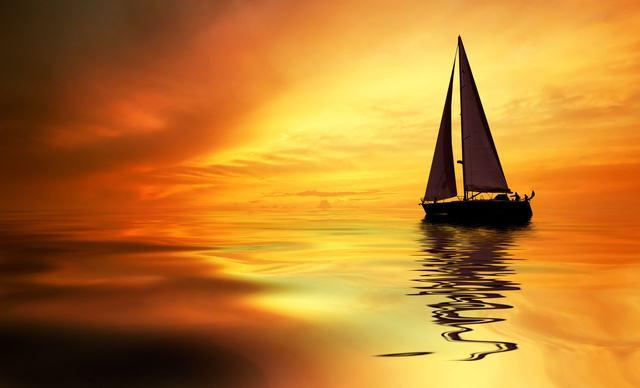fanchuan: (418, 34, 538, 227)
